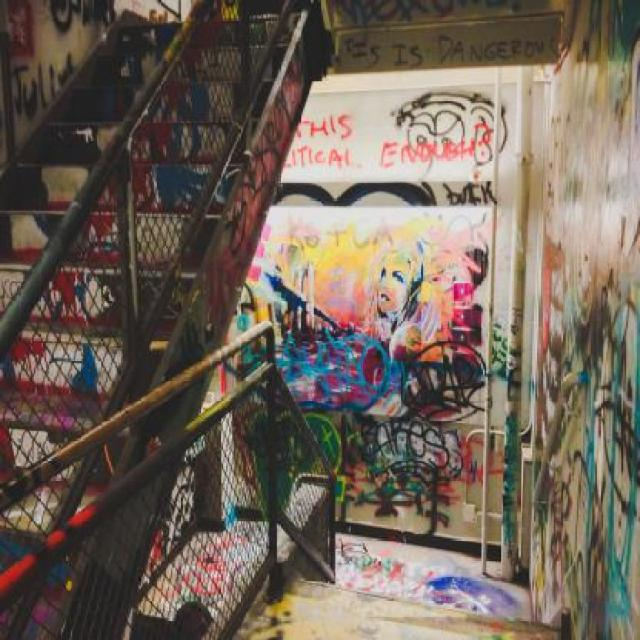Person: (359, 242, 426, 368), (221, 281, 257, 382)
